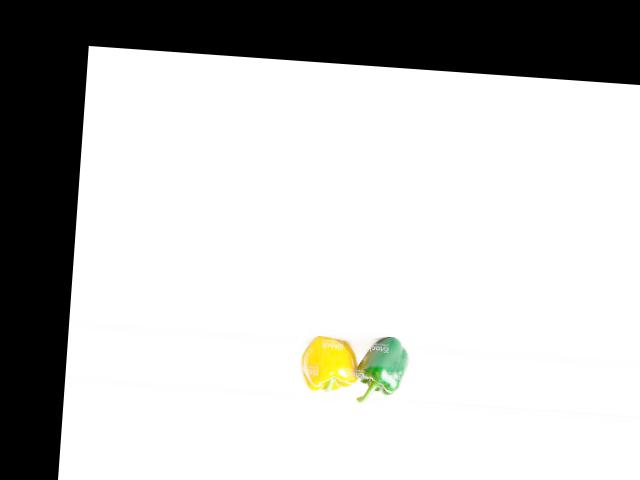bell_pepper: (355, 326, 415, 400)
